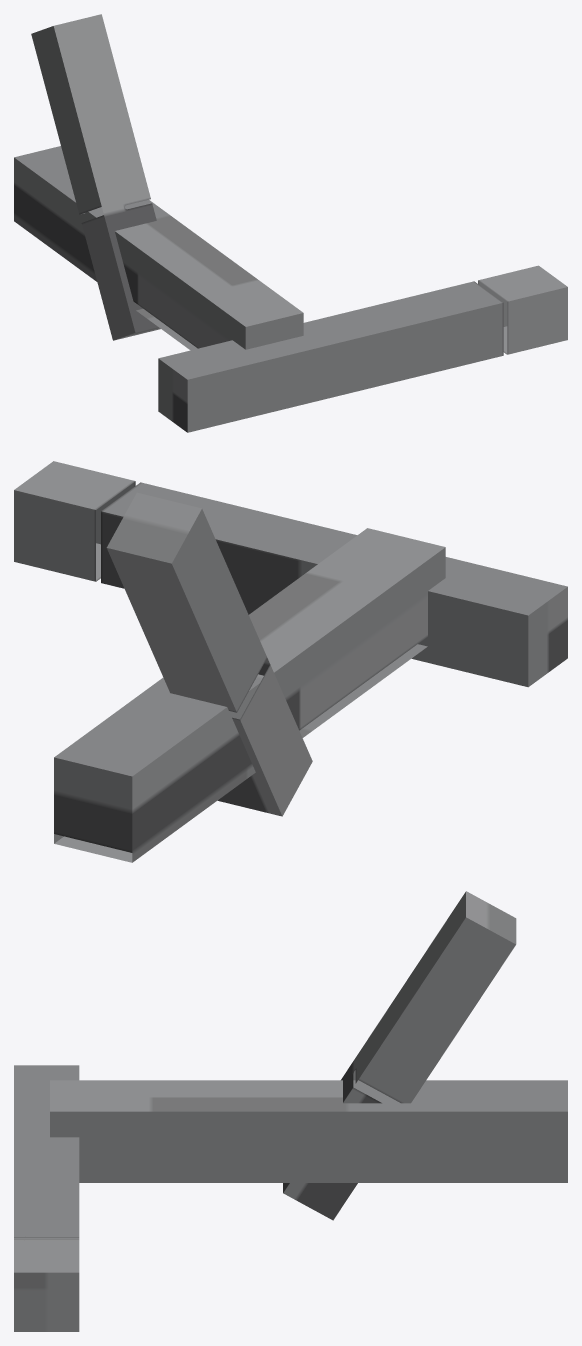
3 views of the same model, one above another, from view 1: azimuth 30°, elevation 25°; view 2: azimuth 150°, elevation 25°; view 3: azimuth 270°, elevation 25° (orthographic). The views are drawn at different scales.
Bounding box in the file's own units: 1.05 × 0.7158 × 1.18.
